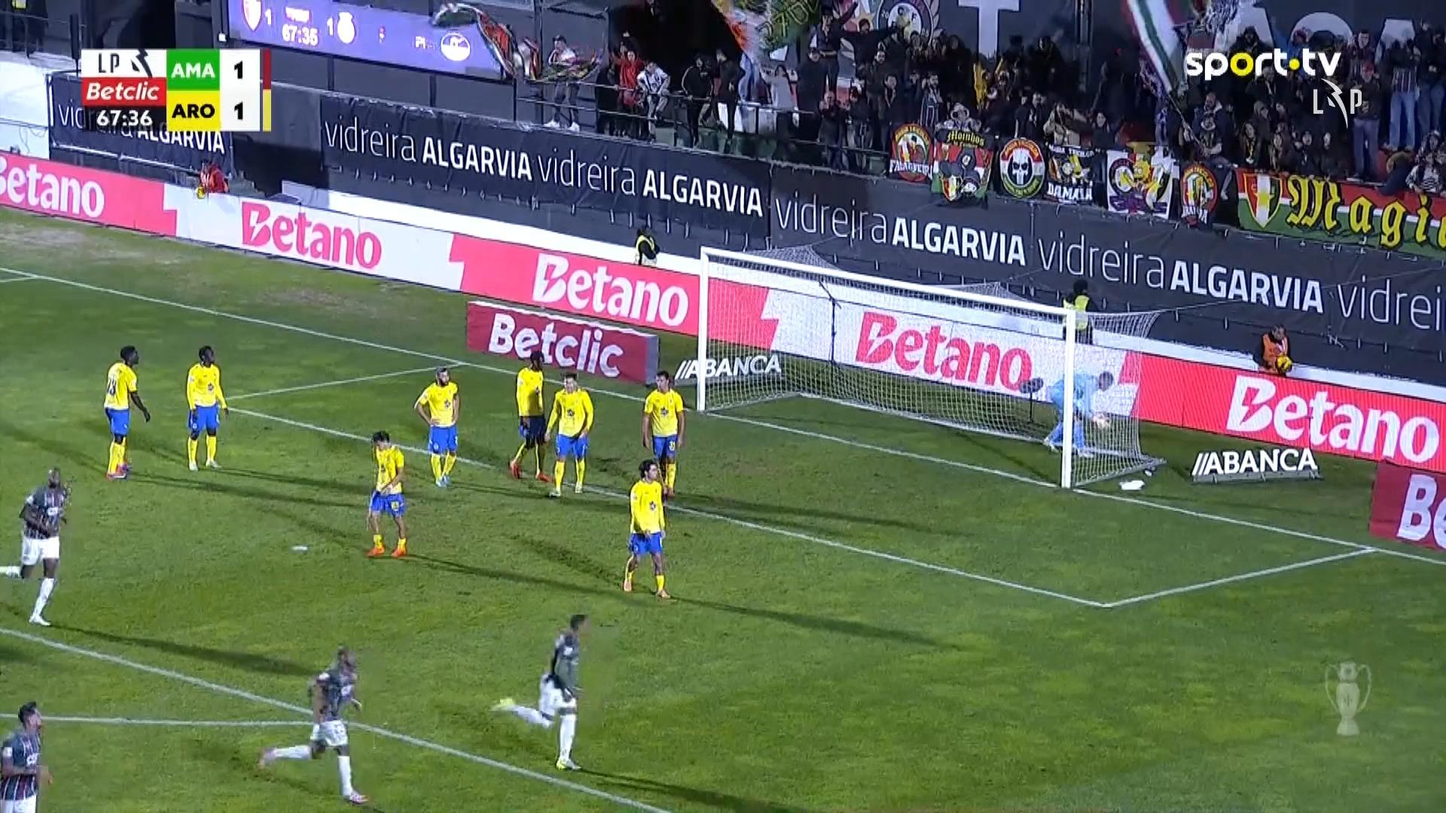ball: (1275, 354, 1292, 373)
goalkeeper: (1042, 369, 1113, 458)
player: (256, 644, 369, 805), (490, 612, 588, 771), (1, 465, 74, 626), (621, 458, 671, 599), (102, 344, 151, 480), (543, 370, 593, 498), (640, 369, 686, 501), (0, 700, 54, 811), (413, 365, 461, 488), (507, 349, 551, 483), (184, 344, 229, 471), (365, 429, 408, 558)
